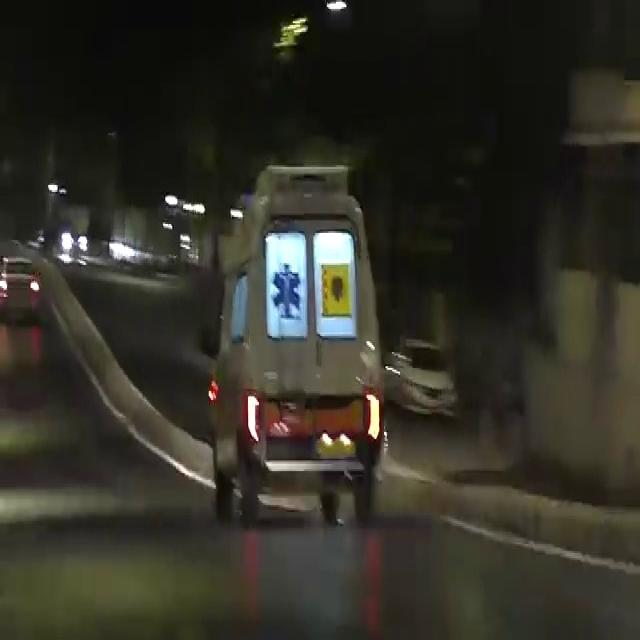ambulance: (205, 184, 407, 504)
